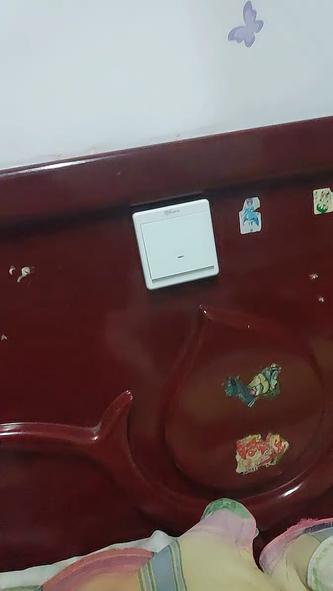switch: (139, 207, 217, 283)
